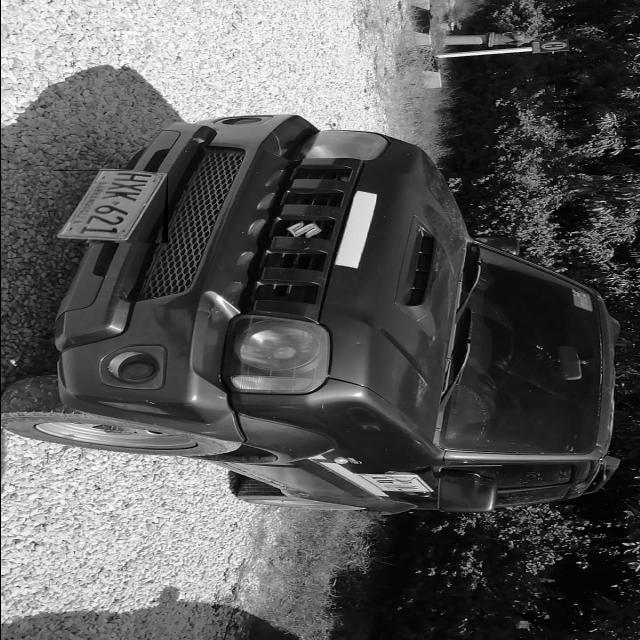plate: (53, 170, 166, 243)
